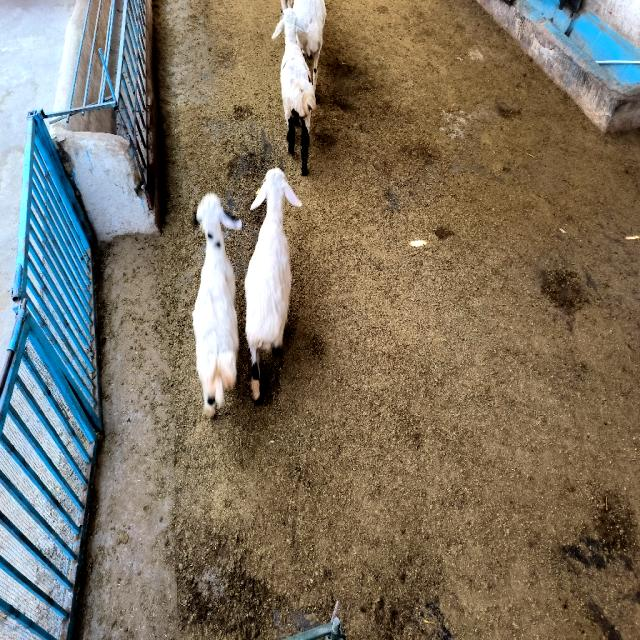sheep: (245, 168, 301, 402), (192, 193, 241, 417), (272, 8, 315, 174), (292, 0, 326, 91)
